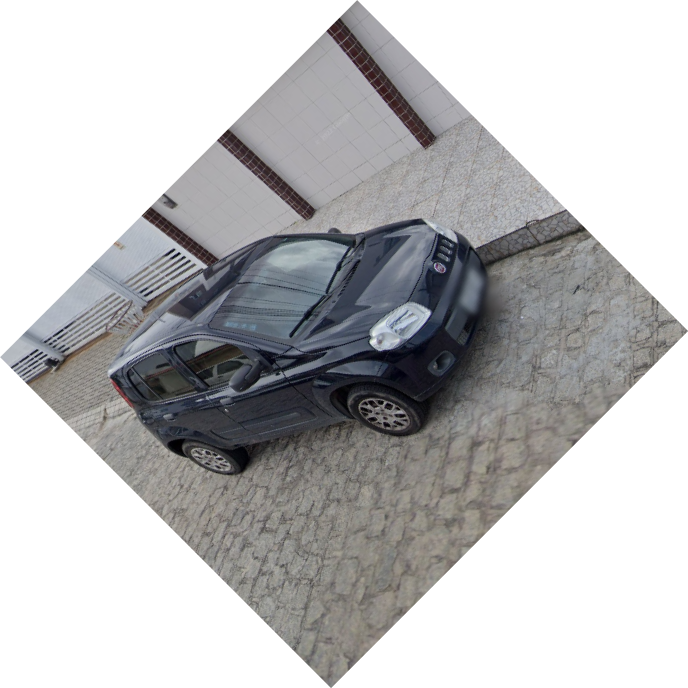car: (105, 216, 490, 478)
